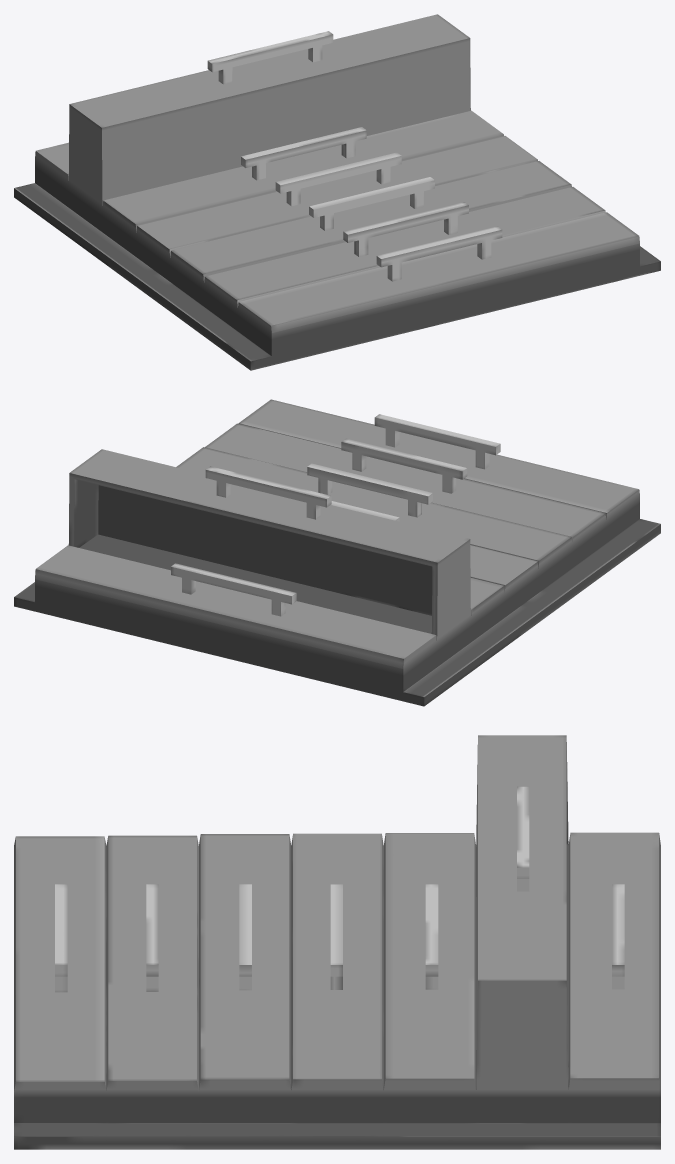
File: Drawers_B.fbx
The picture shows the model from 3 angles, top to bottom: view 1: azimuth 30°, elevation 25°; view 2: azimuth 150°, elevation 25°; view 3: azimuth 270°, elevation 25°; orthographic projection. The views are drawn at different scales.
Parts seen in each view (by area): view 1: Drawers_B; view 2: Drawers_B; view 3: Drawers_B.
Boxes of the visible parts, x1,y1,x2,y2 form: Drawers_B: (14, 14, 660, 370); Drawers_B: (14, 399, 660, 706); Drawers_B: (14, 735, 660, 1149).
Bounding box in the file's own units: 200 × 63.62 × 200.
